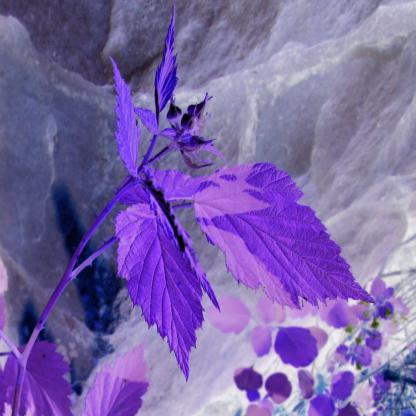raspberry leaf: (194, 161, 378, 311), (113, 199, 208, 384)
